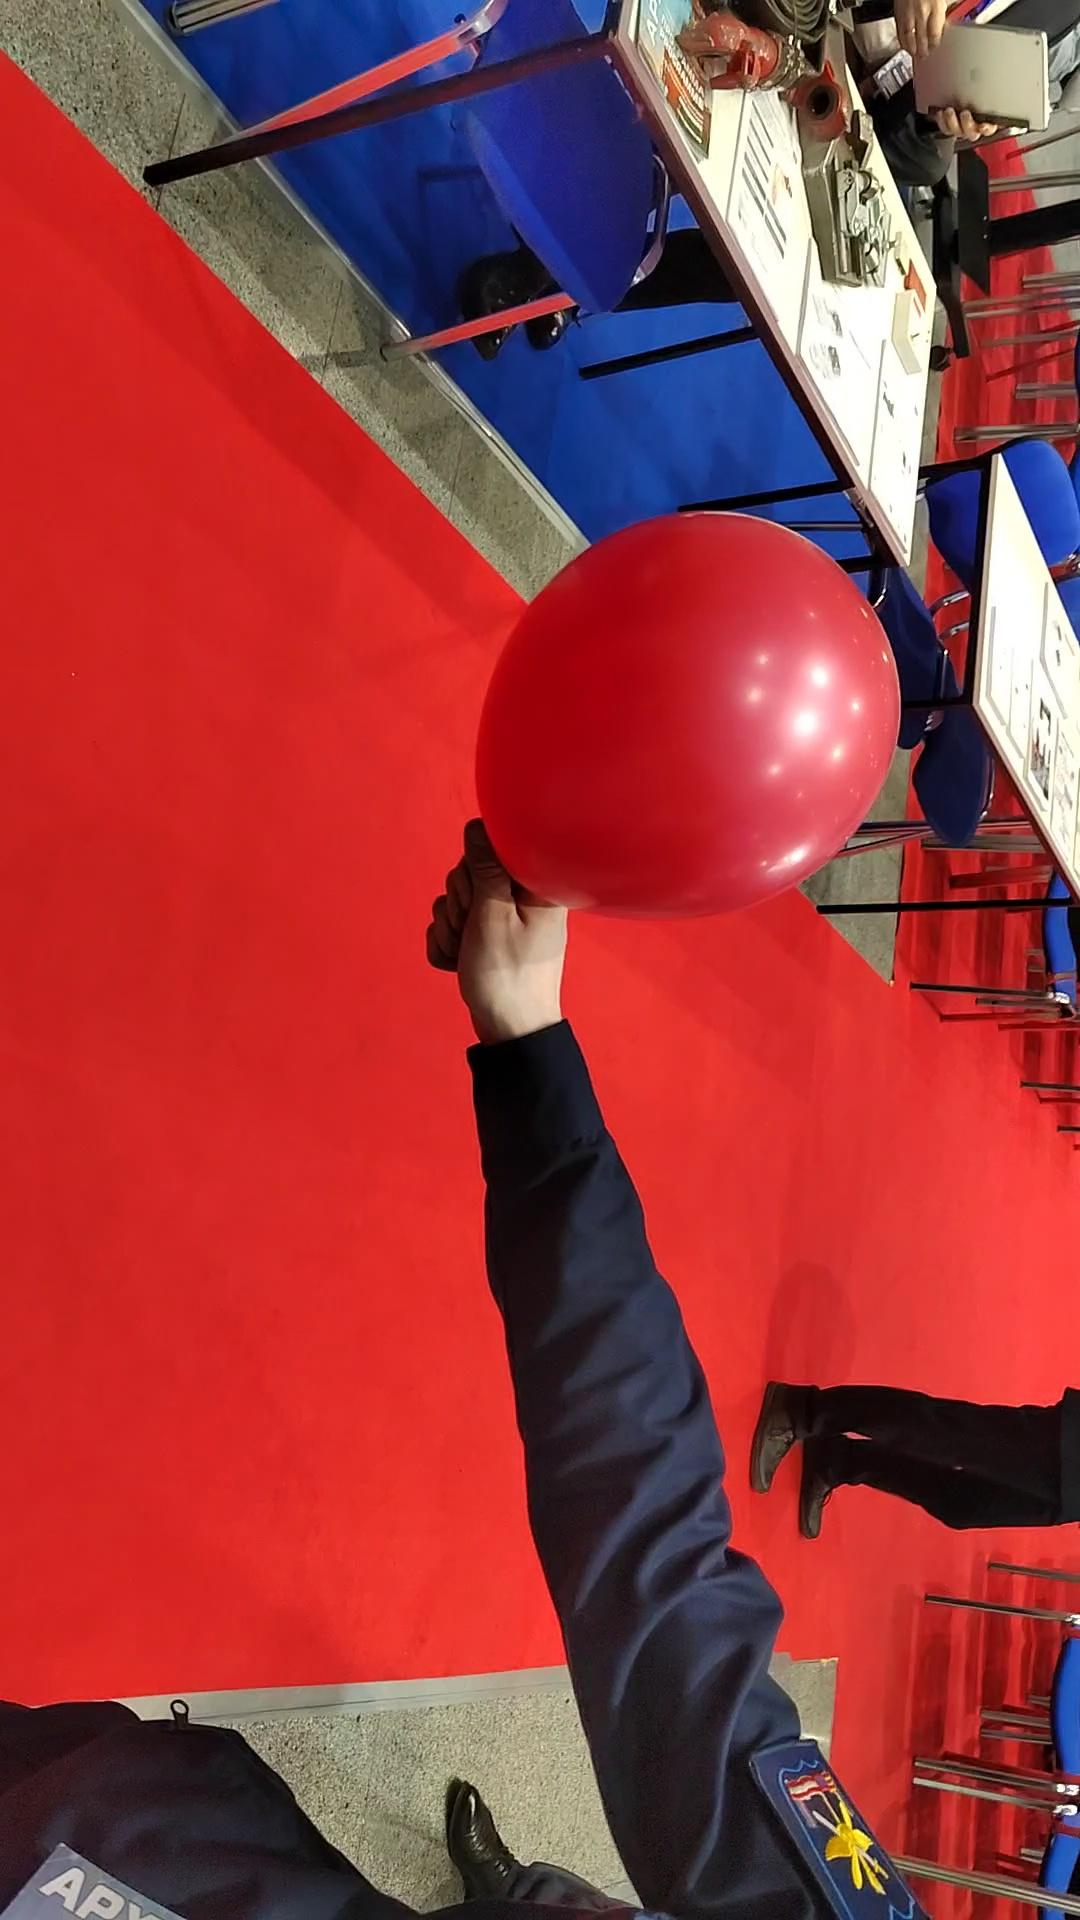red: (467, 504, 907, 923)
